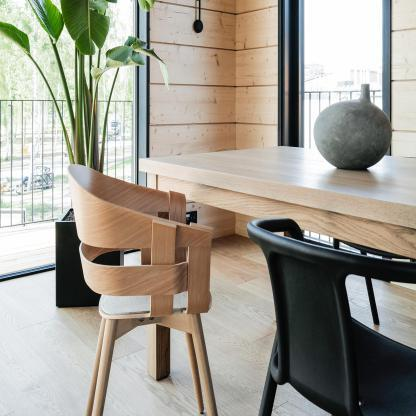chair: (60, 159, 220, 416), (239, 207, 416, 416)
table: (137, 142, 416, 262)
